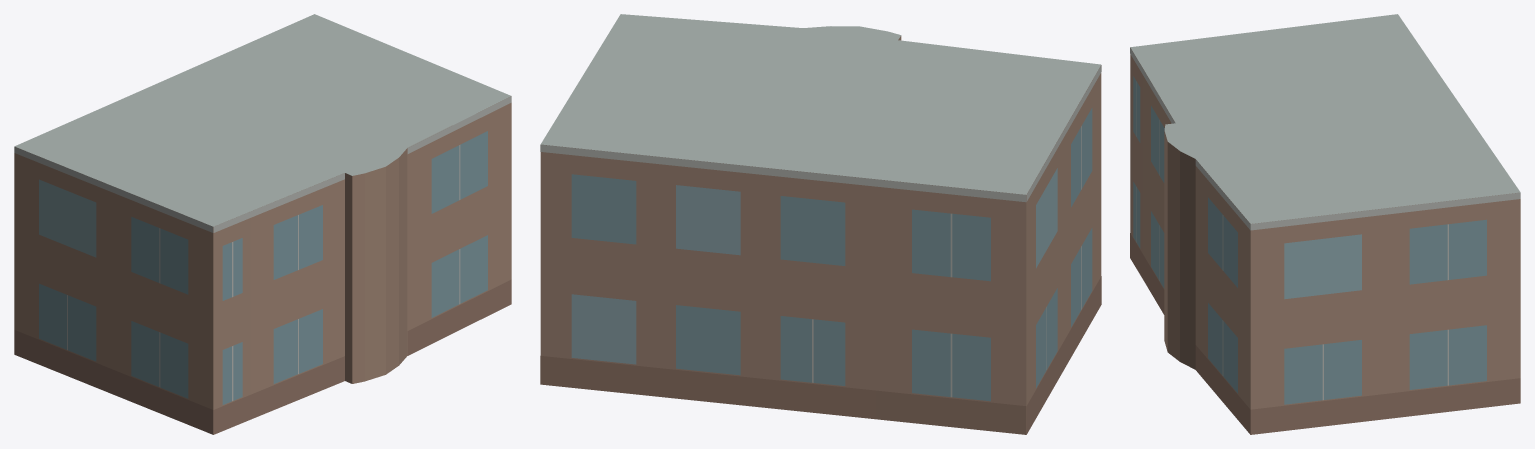
Rendered from survey-upis-32623681.glb.
3 renders of one model, left to right at view 1: azimuth 30°, elevation 25°; view 2: azimuth 150°, elevation 25°; view 3: azimuth 270°, elevation 25°, orthographic. The views are drawn at different scales.
Visible parts, largest first — view 1: survey-upis-32623681.tmp; view 2: survey-upis-32623681.tmp; view 3: survey-upis-32623681.tmp.
Part boxes in pixels (bbox=[...]): survey-upis-32623681.tmp: bbox=[14, 14, 511, 434]; survey-upis-32623681.tmp: bbox=[540, 14, 1101, 434]; survey-upis-32623681.tmp: bbox=[1130, 14, 1520, 434].
Size of the model in its own units: 16.88 by 7.9 by 13.27.
